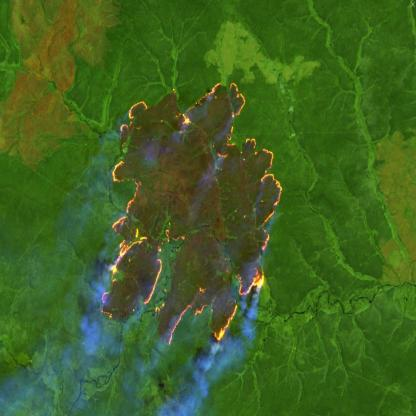fire: (97, 76, 286, 350)
